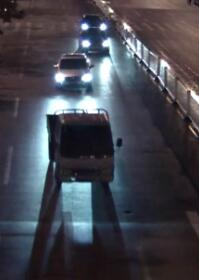car: (42, 106, 123, 192), (53, 51, 93, 92), (79, 29, 109, 54), (76, 9, 106, 32)
